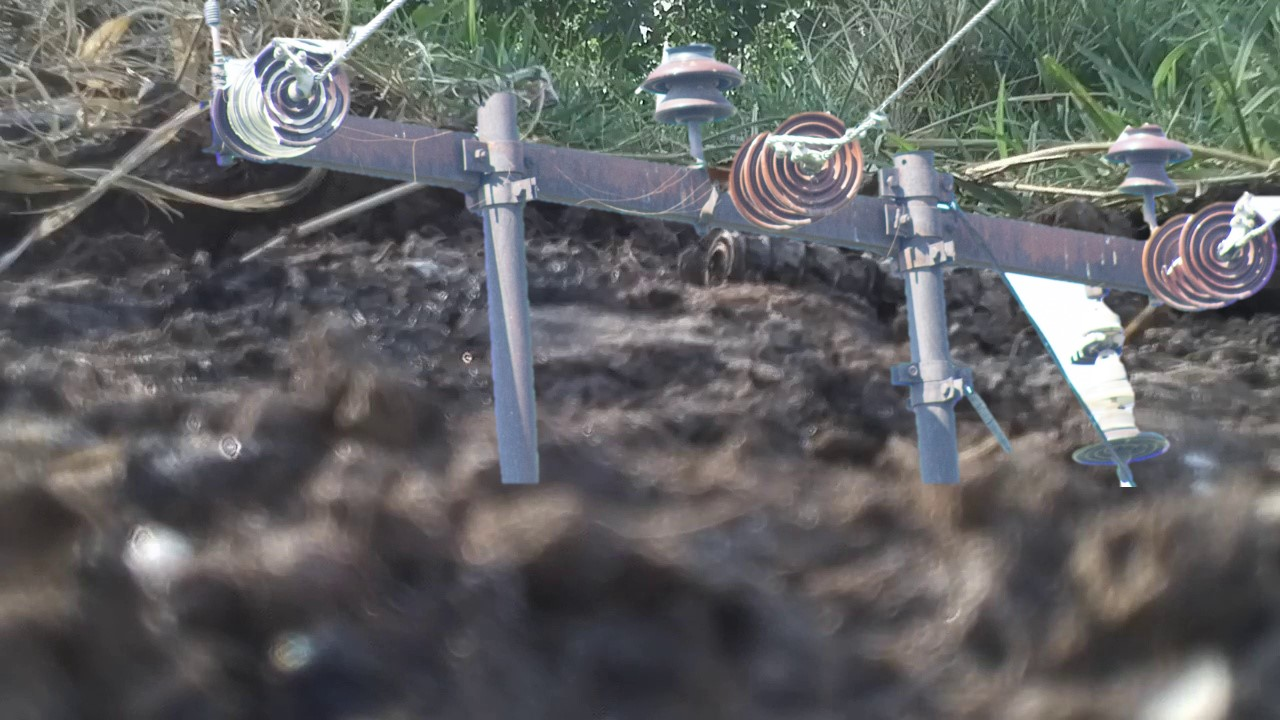defect_disc: (248, 33, 357, 157)
insulator_disc: (757, 108, 866, 222), (1180, 196, 1271, 303)
